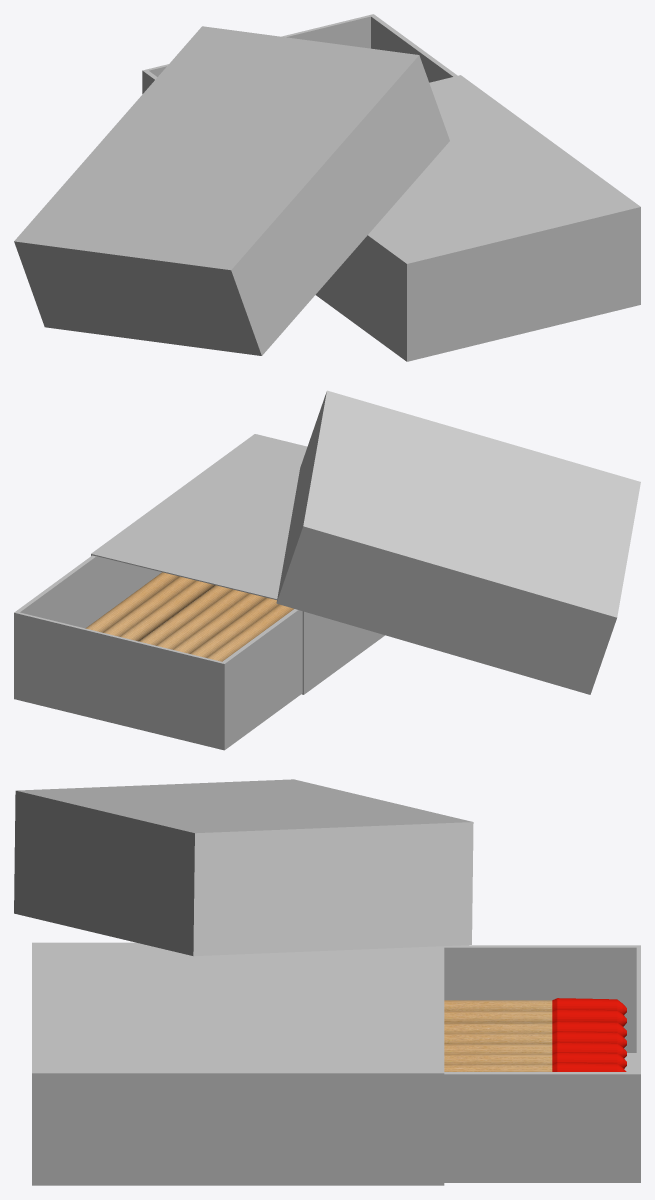
The model's file is Korek.fbx.
3 views of the same model, one above another, from view 1: azimuth 30°, elevation 25°; view 2: azimuth 150°, elevation 25°; view 3: azimuth 270°, elevation 25° (orthographic). The views are drawn at different scales.
Parts seen in each view (by area): view 1: Korek; view 2: Korek; view 3: Korek.
Boxes of the visible parts, <box> form: Korek: <box>14,14,640,361</box>; Korek: <box>14,390,640,750</box>; Korek: <box>14,779,640,1185</box>.
Bounding box in the file's own units: 0.0608 × 0.0657 × 0.0287.
